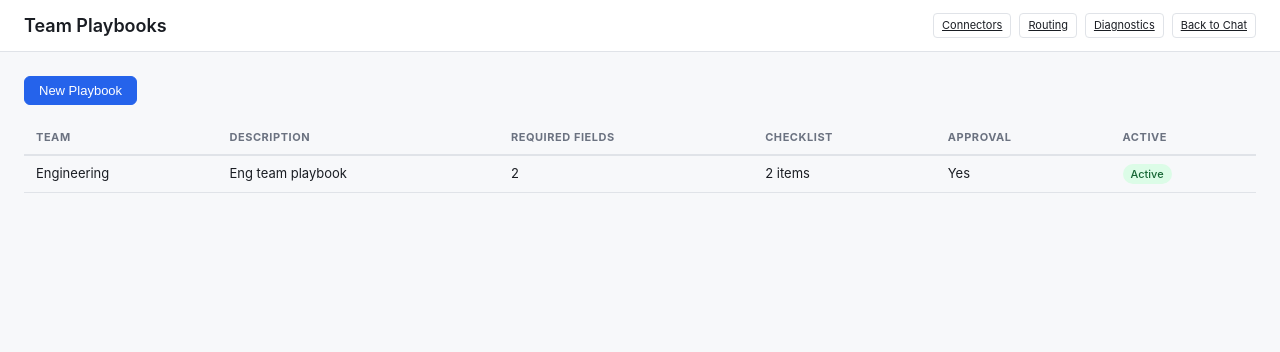
Test case: PlaybooksPage › navigates to playbook detail on click
Step 1. Click the text "Engineering" → point(121, 174), box top-left (24, 154), bottom-right (217, 192)
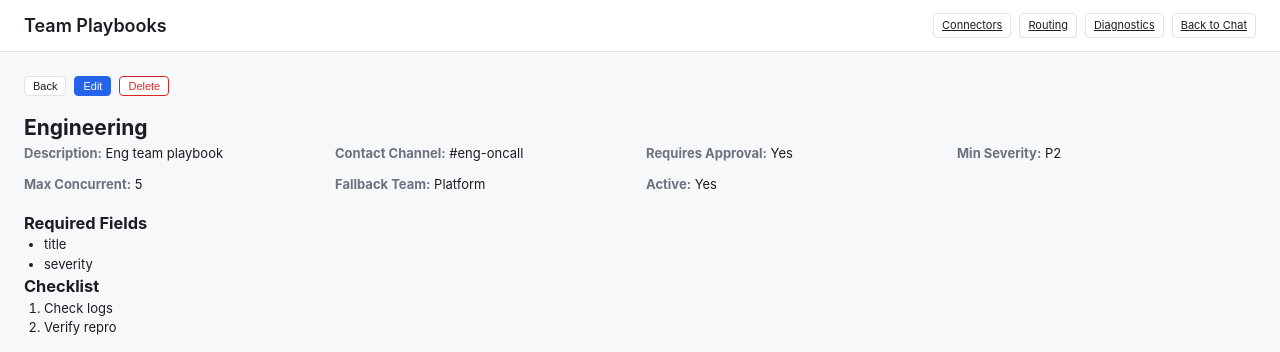
Result: the element with test id "playbook-detail" is shown at top-left (24, 76), bottom-right (1061, 335)
Result: the text "#eng-oncall" is shown at top-left (449, 144), bottom-right (523, 160)
Result: the list item "Check logs" is shown at top-left (44, 300), bottom-right (113, 316)
